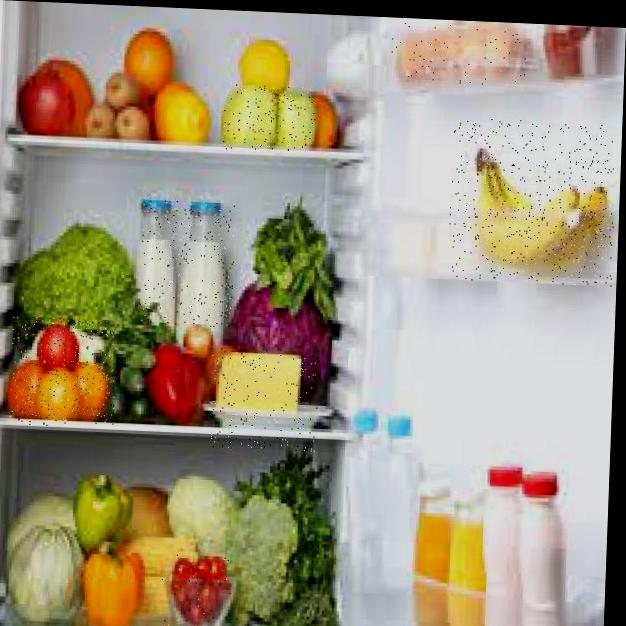apple: (223, 84, 316, 154)
banana: (448, 117, 617, 286)
cheese: (209, 348, 319, 452)
eggs: (391, 22, 529, 88)
milk: (139, 200, 236, 329)
tomatoes: (9, 316, 117, 430), (158, 554, 240, 626)
